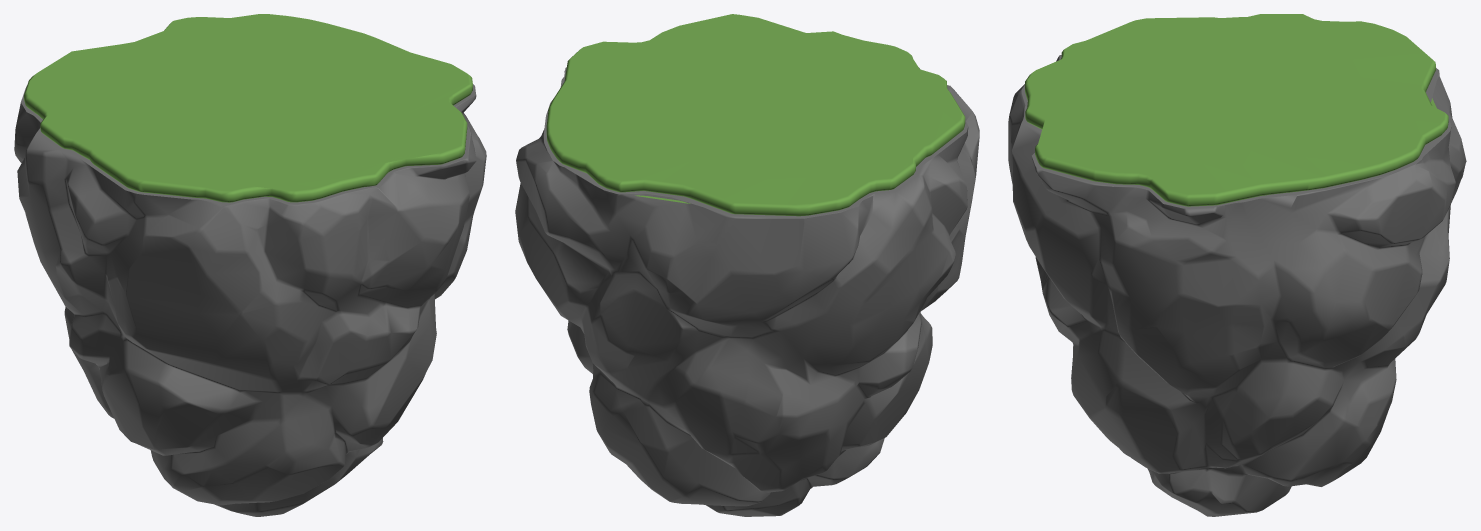
Rendered from SM_FloatingIsland_01.fbx.
3 renders of one model, left to right at view 1: azimuth 30°, elevation 25°; view 2: azimuth 150°, elevation 25°; view 3: azimuth 270°, elevation 25°, orthographic.
Parts seen in each view (by area): view 1: Cube; view 2: Cube; view 3: Cube.
Boxes of the visible parts, x1,y1,x2,y2 form: Cube: (14, 14, 486, 516); Cube: (515, 14, 979, 516); Cube: (1008, 14, 1466, 516).
Size of the model in its own units: 12.16 by 11.79 by 12.06.
